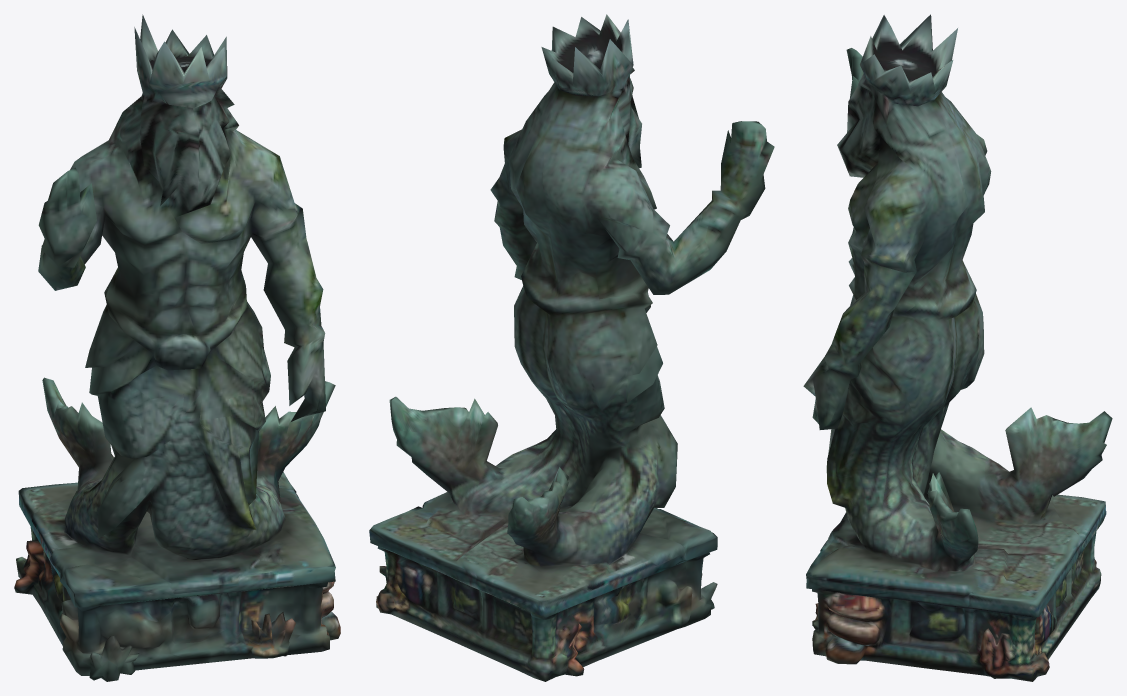
Rendered from Poseidon.glb.
3 views of the same model, side by side, from view 1: azimuth 30°, elevation 25°; view 2: azimuth 150°, elevation 25°; view 3: azimuth 270°, elevation 25° (orthographic). The views are drawn at different scales.
Visible parts, largest first — view 1: Poseidon; view 2: Poseidon; view 3: Poseidon.
Boxes of the visible parts, x1,y1,x2,y2 form: Poseidon: (14,14,340,681); Poseidon: (369,14,774,681); Poseidon: (803,14,1112,681).
Bounding box in the file's own units: 0.1774 × 0.2973 × 0.1434.
1 material, 1 textured.
